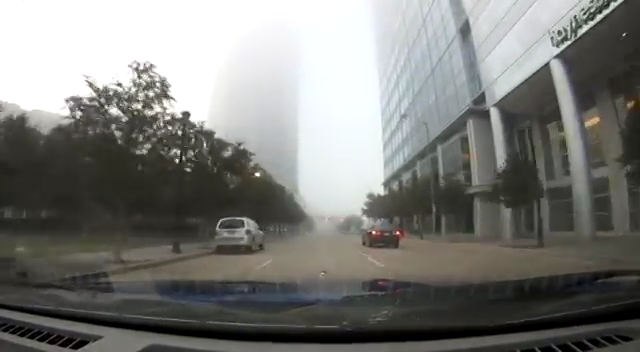car: (214, 218, 266, 253), (361, 222, 402, 249)
